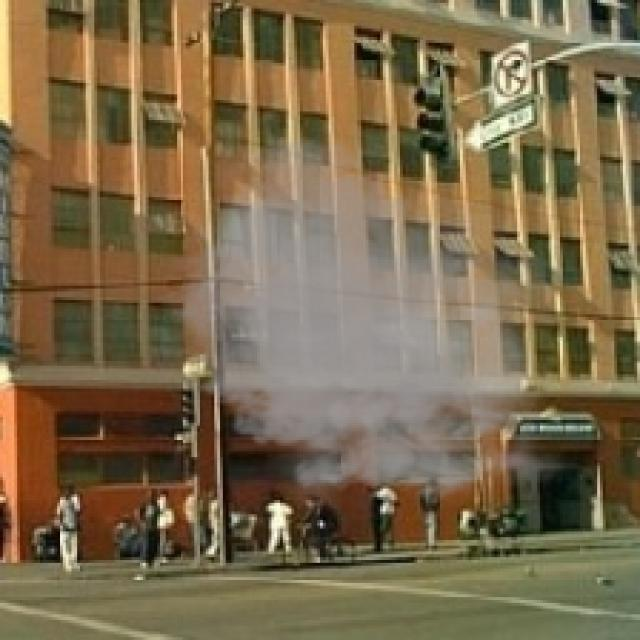Smoke: (152, 125, 577, 518)
